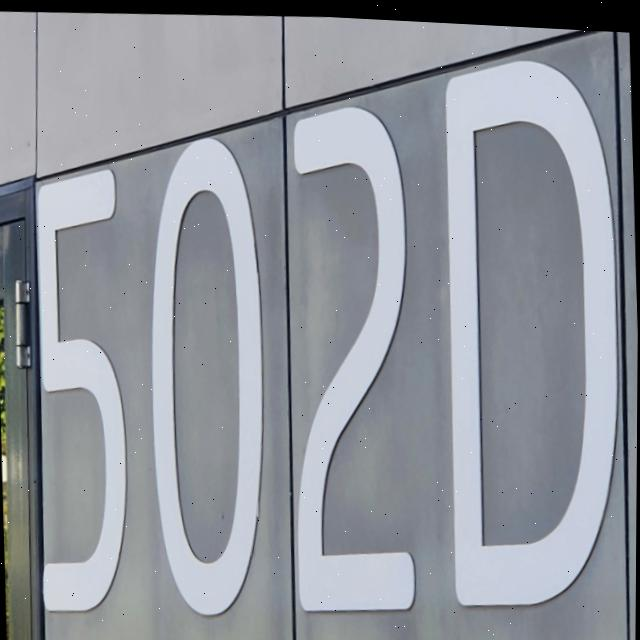character: (433, 49, 634, 621), (279, 97, 426, 625), (136, 127, 277, 624), (26, 161, 137, 621)
